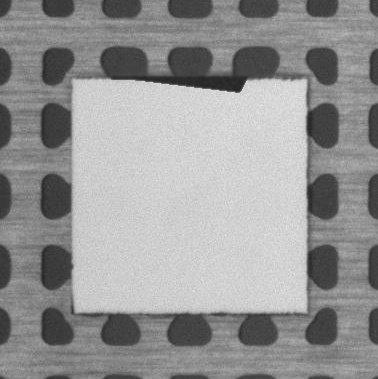DIE_BROKEN: (107, 70, 251, 95)
